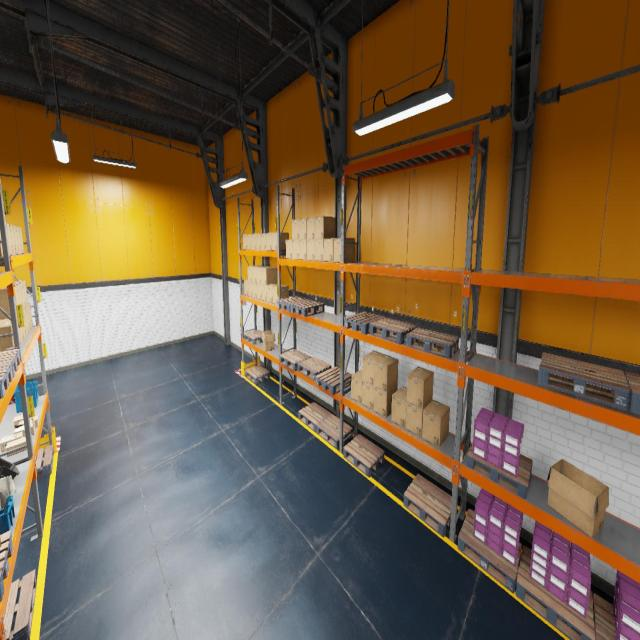box: (547, 460, 609, 538), (422, 400, 450, 448), (407, 366, 433, 409), (406, 400, 432, 438), (374, 355, 398, 392), (362, 351, 385, 386), (374, 384, 397, 417), (391, 386, 407, 428), (0, 285, 19, 319), (0, 318, 21, 347), (333, 238, 355, 262), (6, 284, 23, 312), (0, 432, 23, 452), (315, 216, 335, 238), (0, 321, 14, 351), (5, 437, 27, 456), (14, 418, 35, 437), (351, 368, 362, 404), (13, 281, 28, 307), (14, 282, 26, 311), (362, 381, 374, 410), (272, 284, 289, 304), (266, 284, 282, 303), (272, 232, 288, 251), (262, 330, 276, 351), (256, 267, 272, 284), (6, 223, 14, 255), (262, 268, 278, 284), (19, 416, 39, 428), (252, 266, 266, 283), (324, 238, 333, 262), (248, 266, 261, 282), (315, 239, 323, 261), (306, 217, 314, 239), (10, 225, 16, 254), (13, 225, 19, 254), (16, 226, 22, 254), (307, 239, 315, 260), (299, 218, 307, 239), (299, 240, 307, 260), (292, 218, 299, 238), (292, 239, 299, 259), (26, 306, 31, 333), (13, 415, 23, 428), (19, 227, 24, 253), (28, 303, 33, 329), (6, 223, 10, 255), (24, 309, 28, 337), (286, 240, 292, 258), (256, 283, 262, 300), (19, 327, 24, 346), (23, 311, 26, 341), (266, 233, 271, 250), (261, 233, 266, 250), (251, 233, 256, 250), (252, 282, 257, 298), (256, 234, 261, 250), (0, 230, 3, 256), (262, 284, 266, 301), (248, 281, 252, 297), (244, 280, 248, 296), (247, 234, 251, 250), (243, 234, 247, 250)
pallets: (515, 546, 595, 640), (458, 509, 521, 593), (538, 353, 630, 410), (467, 443, 532, 499), (404, 474, 452, 537), (4, 570, 36, 639), (343, 434, 385, 477), (406, 328, 459, 358), (369, 317, 417, 343), (317, 414, 352, 449), (592, 594, 616, 640), (315, 366, 352, 395), (298, 402, 332, 432), (0, 530, 13, 602), (344, 312, 386, 334), (298, 357, 331, 381), (624, 372, 640, 414), (280, 349, 310, 371), (0, 348, 21, 377), (36, 444, 54, 476), (290, 300, 324, 316), (277, 297, 309, 312), (246, 365, 270, 384), (0, 363, 13, 398), (244, 330, 262, 344)
